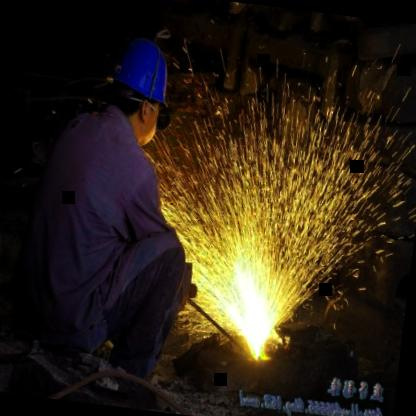helmet: (95, 26, 184, 152)
